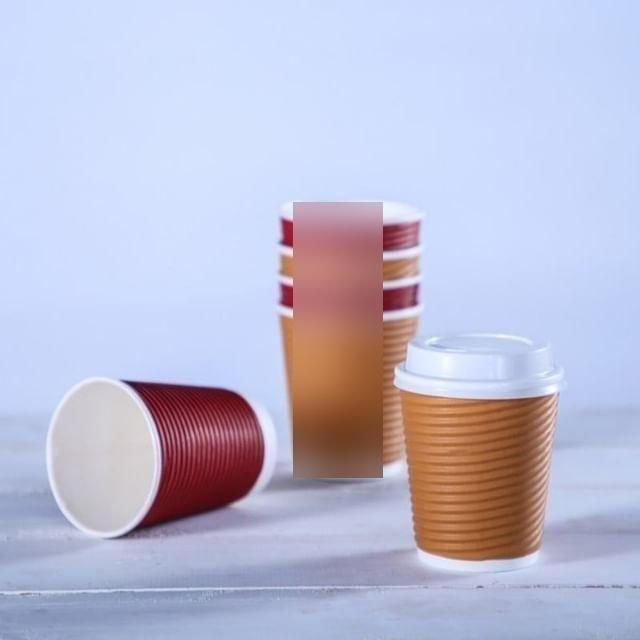cup-disposable: (388, 325, 565, 577), (38, 365, 279, 537)
